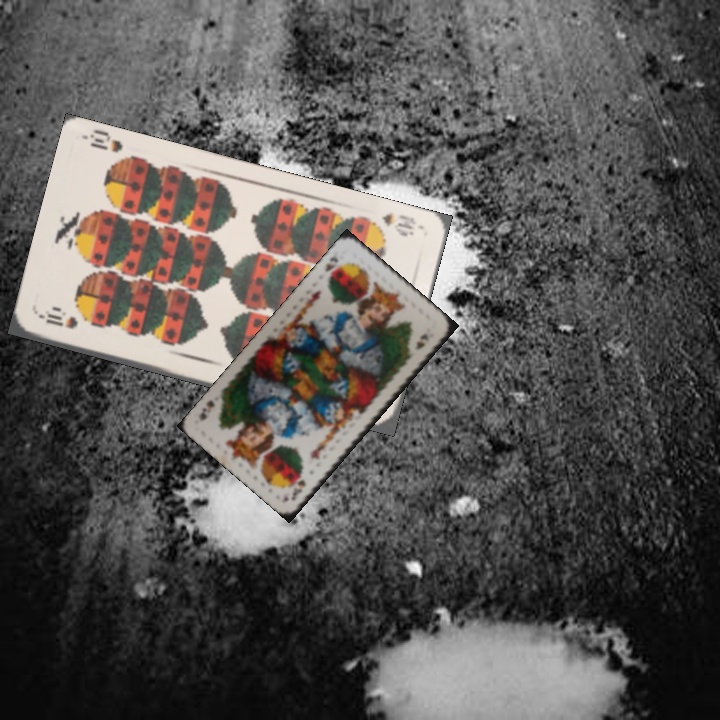S10: (378, 208, 419, 239), (37, 309, 81, 332)
SK: (320, 252, 344, 284), (287, 475, 309, 503)
